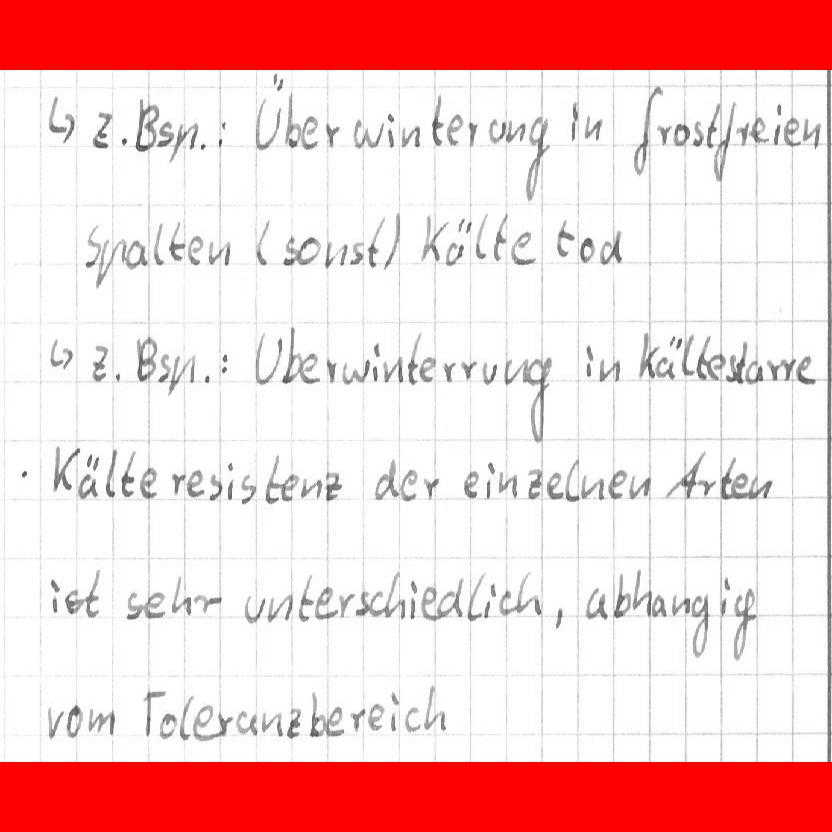Char: (524, 113, 552, 201), (524, 354, 551, 443), (255, 78, 283, 154), (632, 91, 657, 174), (668, 448, 706, 497), (713, 101, 735, 184), (93, 237, 126, 289), (732, 589, 756, 659), (417, 213, 448, 263), (688, 590, 709, 658), (253, 330, 278, 386), (278, 326, 300, 386), (48, 94, 74, 144), (444, 217, 470, 267), (372, 454, 399, 502), (142, 687, 167, 738), (133, 97, 157, 150), (52, 444, 77, 494), (77, 449, 101, 501), (366, 214, 387, 272), (167, 352, 194, 397), (516, 571, 541, 616), (656, 335, 681, 380), (422, 684, 445, 732), (382, 212, 401, 270), (352, 115, 384, 149), (440, 576, 464, 620), (134, 333, 155, 382), (637, 329, 657, 380), (171, 120, 197, 159), (253, 215, 272, 268), (384, 570, 404, 620), (82, 221, 102, 270), (296, 572, 315, 623), (598, 228, 623, 266), (119, 447, 138, 497), (84, 567, 102, 619), (473, 210, 492, 259), (169, 574, 191, 616), (87, 705, 115, 738), (553, 215, 574, 258), (263, 452, 281, 502), (406, 330, 422, 386), (266, 590, 293, 623), (492, 213, 510, 261), (511, 230, 535, 265), (285, 92, 299, 151), (47, 337, 72, 370), (613, 570, 629, 620), (91, 110, 111, 150), (429, 93, 444, 146), (584, 587, 607, 621), (465, 578, 484, 619), (718, 454, 736, 497), (308, 690, 324, 738), (89, 343, 109, 381), (313, 585, 334, 621), (178, 693, 194, 740), (150, 220, 166, 267), (705, 102, 721, 149), (206, 237, 231, 267), (695, 332, 710, 382), (324, 239, 349, 268), (300, 351, 320, 387), (564, 458, 580, 503), (124, 237, 146, 269), (169, 219, 185, 263), (45, 702, 63, 741), (194, 704, 214, 739), (260, 710, 285, 738), (795, 353, 816, 386), (243, 592, 263, 626), (104, 448, 117, 500), (627, 470, 648, 502), (65, 702, 83, 739), (632, 574, 649, 613), (298, 236, 320, 266), (398, 123, 421, 151), (362, 588, 384, 617), (445, 112, 463, 147), (681, 332, 695, 377), (503, 354, 522, 387), (342, 359, 367, 384), (597, 356, 620, 383), (125, 589, 145, 620), (803, 117, 823, 148), (301, 116, 319, 150), (145, 589, 166, 618), (705, 352, 726, 381), (421, 584, 438, 619), (238, 471, 256, 504), (336, 591, 358, 618), (504, 117, 526, 144), (734, 343, 748, 385), (186, 469, 206, 498), (401, 469, 419, 501), (750, 476, 774, 500), (608, 470, 627, 500), (139, 469, 158, 499), (498, 469, 517, 499), (367, 702, 386, 732), (729, 472, 750, 499), (325, 705, 342, 738), (388, 689, 401, 732), (158, 711, 177, 740), (198, 593, 223, 615), (784, 117, 802, 147), (155, 119, 173, 149), (462, 471, 481, 499), (584, 115, 603, 143), (487, 117, 506, 145), (187, 233, 204, 264), (525, 468, 542, 499), (300, 475, 321, 500), (583, 475, 604, 500), (546, 471, 564, 500), (325, 471, 343, 500), (385, 357, 405, 383), (49, 578, 63, 615), (407, 576, 419, 619), (236, 712, 257, 736), (168, 470, 186, 498), (404, 707, 422, 735), (281, 234, 297, 265), (481, 360, 500, 386), (578, 234, 595, 263), (65, 587, 83, 614), (672, 121, 690, 148), (771, 103, 782, 147), (744, 361, 765, 384), (668, 593, 688, 617), (287, 708, 303, 738), (485, 579, 497, 619), (499, 589, 516, 617), (324, 121, 341, 149), (750, 117, 767, 145), (719, 577, 730, 620), (569, 101, 581, 140), (485, 458, 497, 497), (281, 472, 297, 501), (370, 341, 381, 383), (422, 473, 439, 500), (584, 342, 596, 379), (419, 357, 436, 383), (207, 472, 222, 501), (215, 119, 229, 150), (349, 239, 365, 266), (384, 113, 396, 149), (158, 352, 171, 384), (781, 357, 797, 383), (459, 359, 477, 382), (655, 123, 673, 146), (649, 593, 666, 617), (350, 708, 366, 733), (465, 119, 478, 149), (697, 478, 716, 498), (691, 119, 704, 148), (225, 462, 235, 499), (218, 712, 234, 735), (551, 604, 565, 630), (766, 359, 781, 383), (725, 353, 737, 383), (325, 356, 338, 383), (737, 119, 750, 145), (217, 352, 230, 376), (442, 361, 456, 383), (114, 130, 129, 149), (112, 365, 126, 385), (17, 464, 30, 483), (199, 367, 212, 385), (199, 143, 206, 151)
